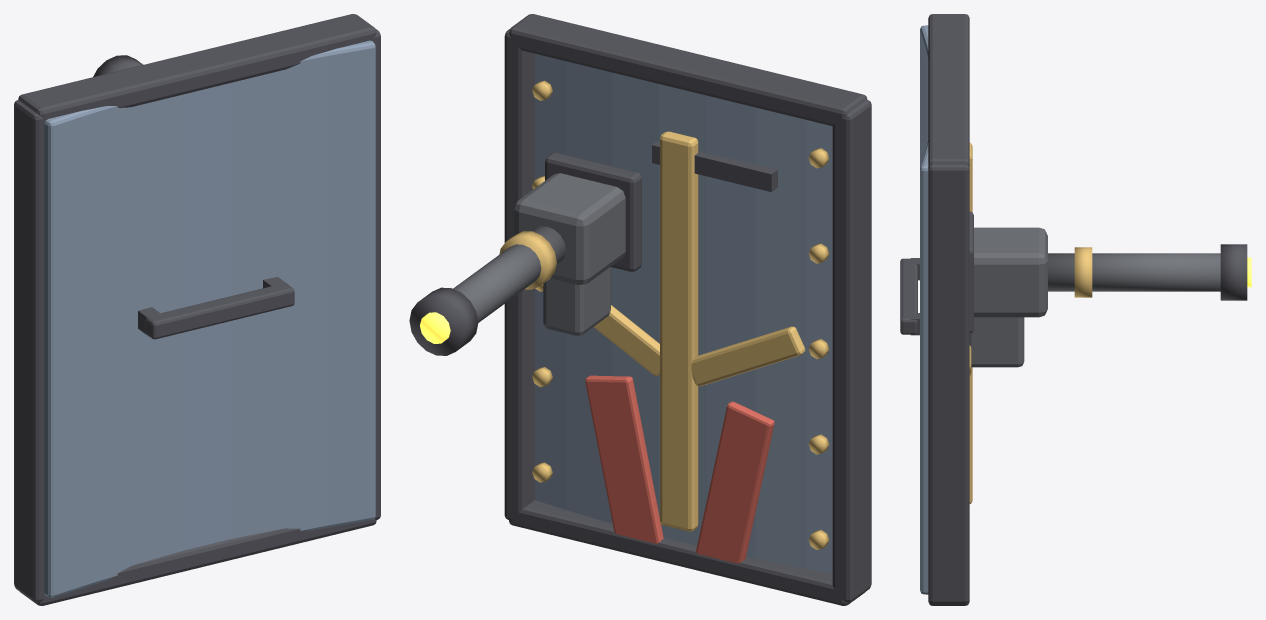
File: AvianGunShield.glb
The picture shows the model from 3 angles, left to right: view 1: azimuth 30°, elevation 25°; view 2: azimuth 150°, elevation 25°; view 3: azimuth 270°, elevation 25°; orthographic projection. The views are drawn at different scales.
Parts seen in each view (by area): view 1: AvianGunShield; view 2: AvianGunShield; view 3: AvianGunShield.
Part boxes in pixels (left/top/right/bottom): AvianGunShield: left=14, top=14, right=380, bottom=605; AvianGunShield: left=409, top=14, right=871, bottom=605; AvianGunShield: left=900, top=14, right=1251, bottom=605.
Size of the model in its own units: 1.22 by 1.67 by 1.19.
